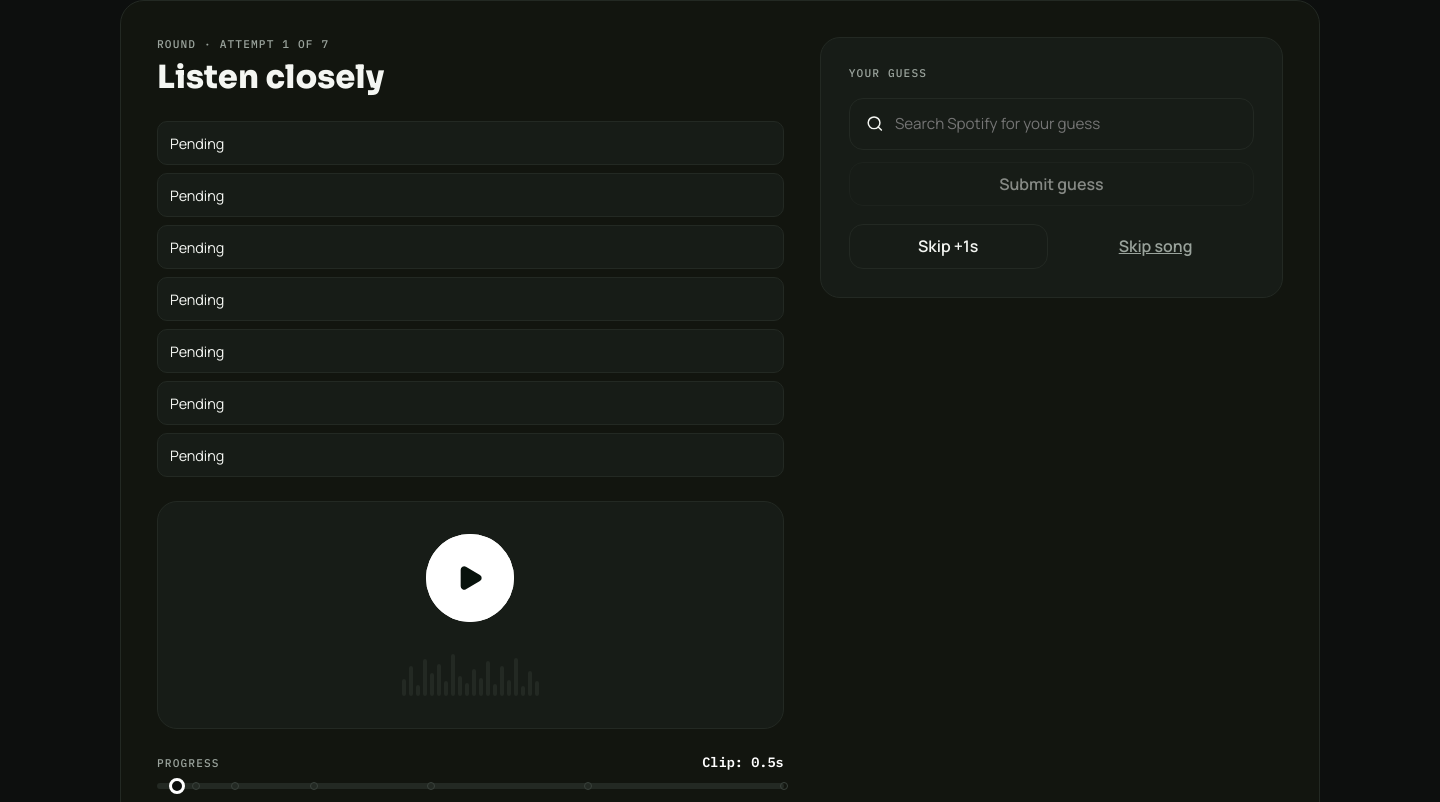
Test: GameScreen playback failures › renders an ordinary playback failure instead of requesting auth recovery
Click the button named "Play 0.5 second clip" at (470, 578), box [426, 534, 514, 622]
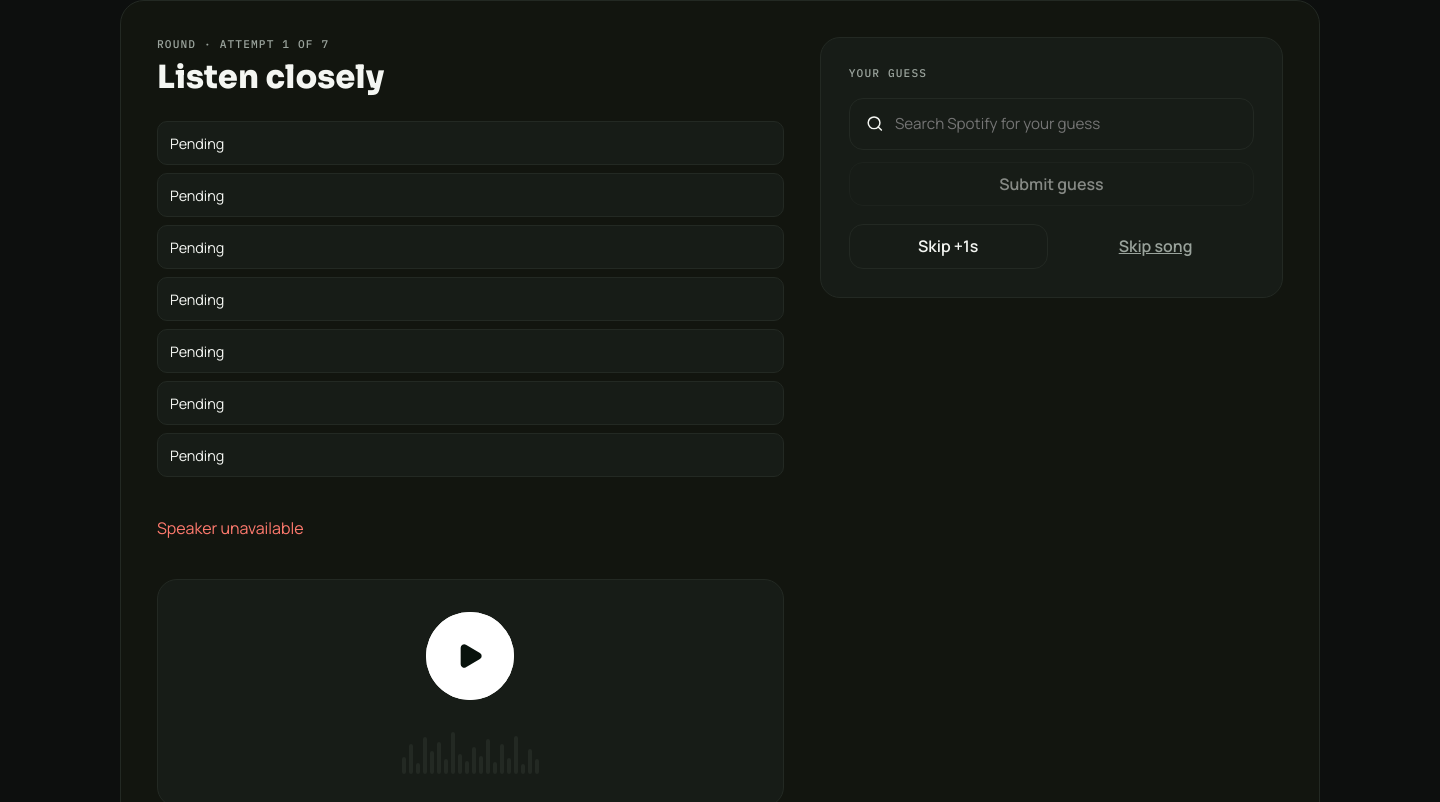
Result: the message reads "Speaker unavailable" at [157, 517, 304, 539]
